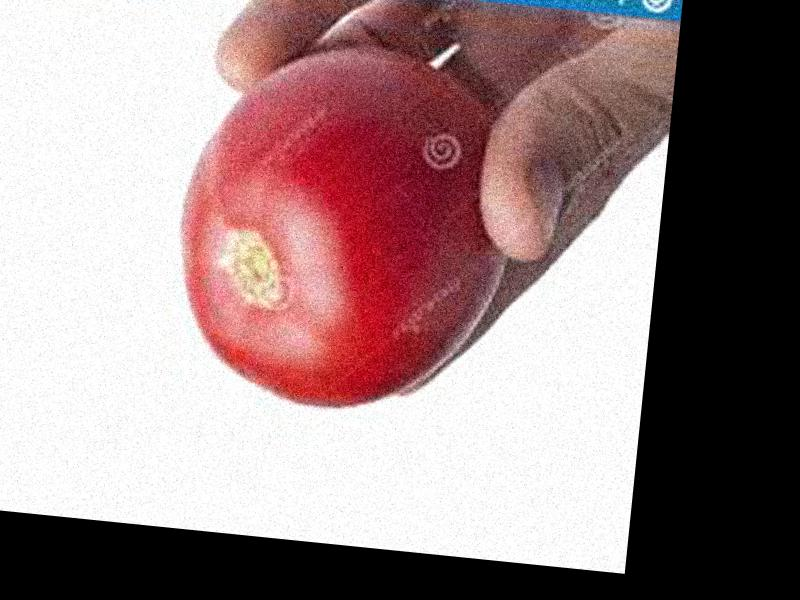Tomato: (166, 32, 527, 423)
